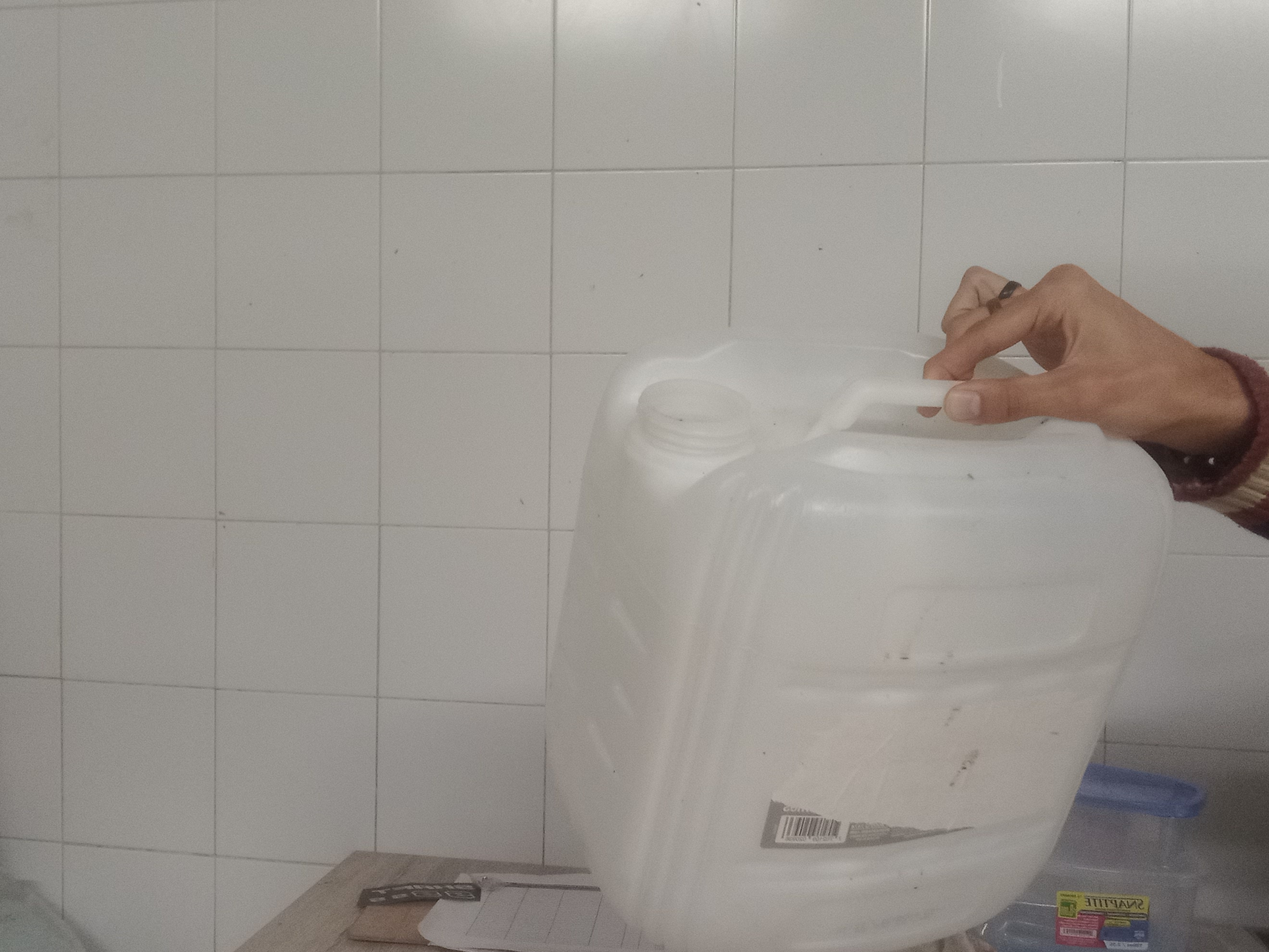Plastico: (546, 337, 1175, 952)
